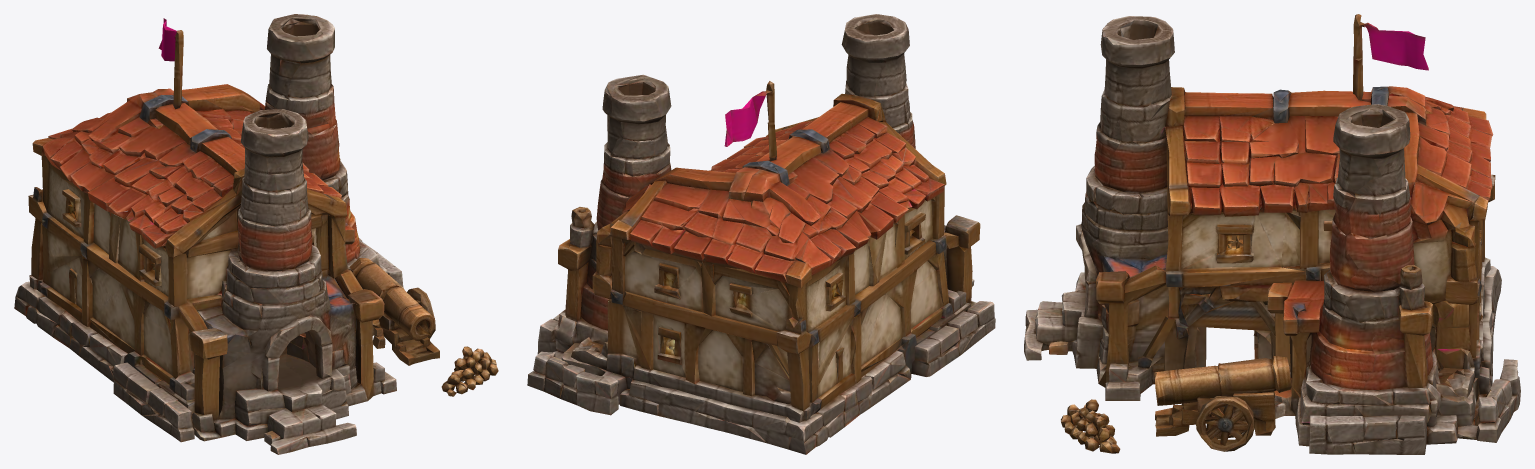
The model's file is foundry2.glb.
3 renders of one model, left to right at view 1: azimuth 30°, elevation 25°; view 2: azimuth 150°, elevation 25°; view 3: azimuth 270°, elevation 25°, orthographic. The views are drawn at different scales.
Parts seen in each view (by area): view 1: Mesh_0; view 2: Mesh_0; view 3: Mesh_0.
Boxes of the visible parts, x1,y1,x2,y2 form: Mesh_0: (14,14,498,454); Mesh_0: (527,14,995,454); Mesh_0: (1024,14,1520,454).
Size of the model in its own units: 1.54 by 1.44 by 1.9.
1 material, 1 textured.
